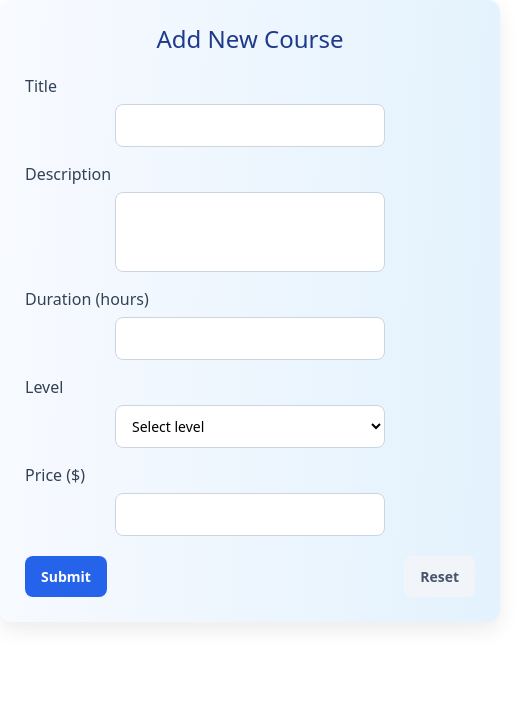
Axios_submits form and displays success message on success
The width and height of the screenshot is (517, 705).
In the field with test id "title-input": [250, 125] box [115,104,385,147], type "New Course"
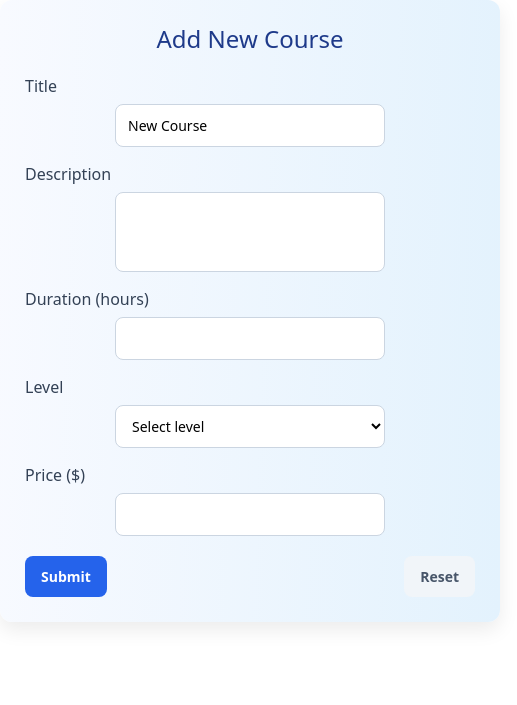
In the number field with test id "duration-input": [250, 338] box [115,317,385,360], type "10"
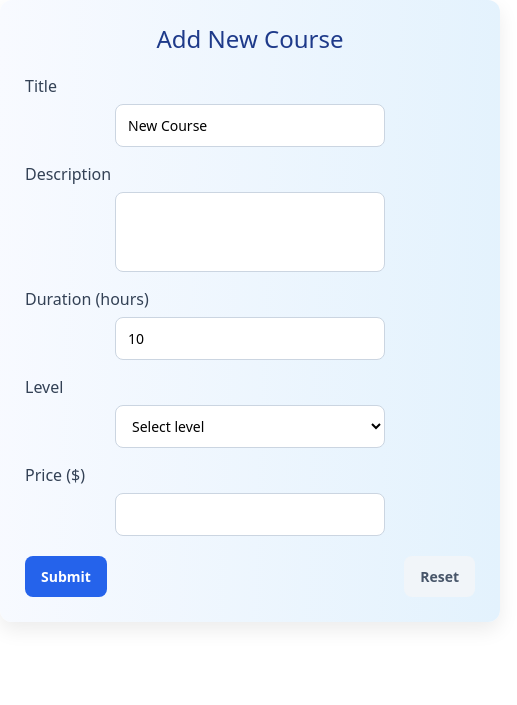
Select "Begineer" in the dropdown with test id "level-select": [250, 426] box [115,405,385,448]
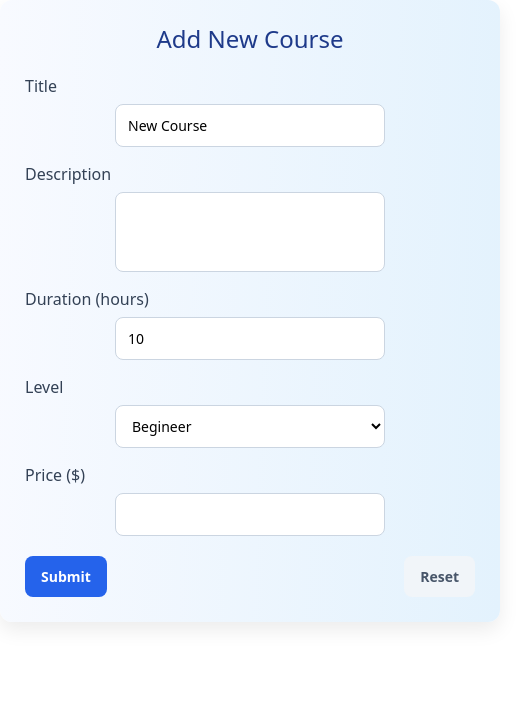
In the number field with test id "price-input": [250, 514] box [115,493,385,536], type "100"
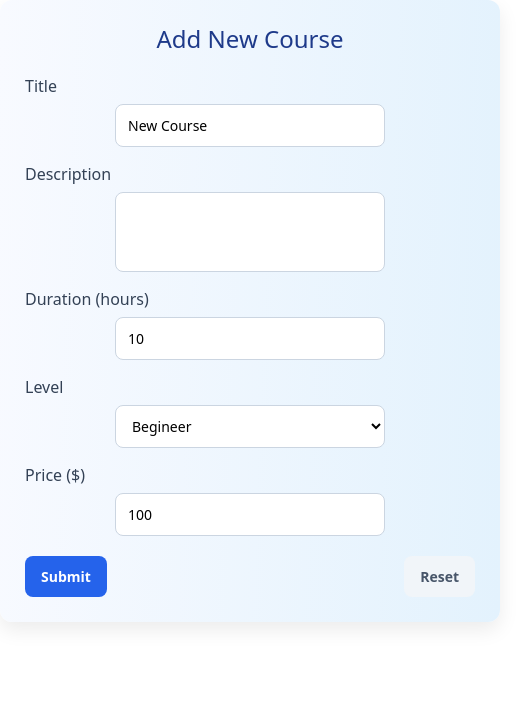
Click the button with test id "submit-btn": [66, 576] box [25,556,107,597]
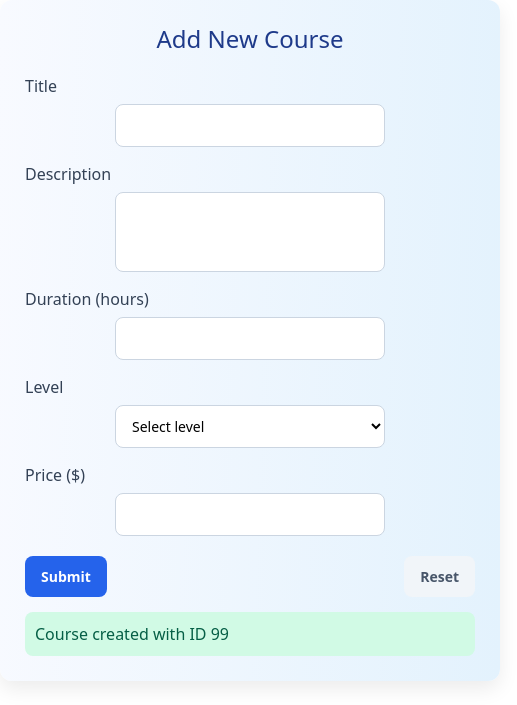
Check: the text "Course created with ID 99" is shown, box [25,612,475,656]
